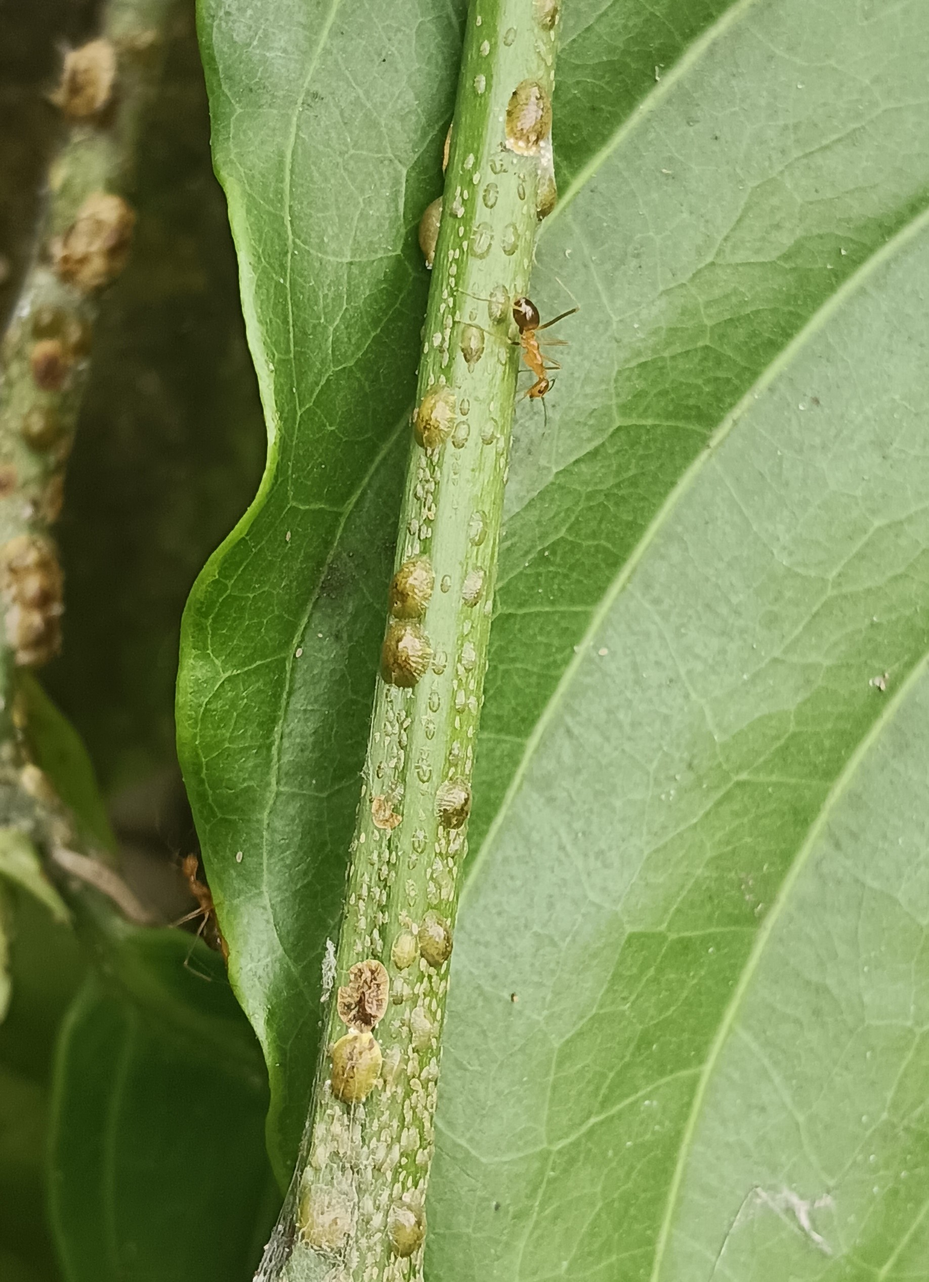Scale_Insect: (377, 621, 433, 687), (337, 959, 389, 1029), (330, 1032, 381, 1103), (385, 557, 435, 621), (508, 81, 547, 146), (415, 390, 455, 449), (419, 907, 455, 968), (434, 777, 473, 829), (386, 1200, 419, 1258), (419, 193, 443, 265), (390, 929, 418, 972), (462, 566, 487, 608), (461, 325, 485, 364), (468, 510, 488, 546), (473, 223, 491, 257), (451, 421, 470, 449), (481, 417, 499, 445), (483, 183, 498, 210)
